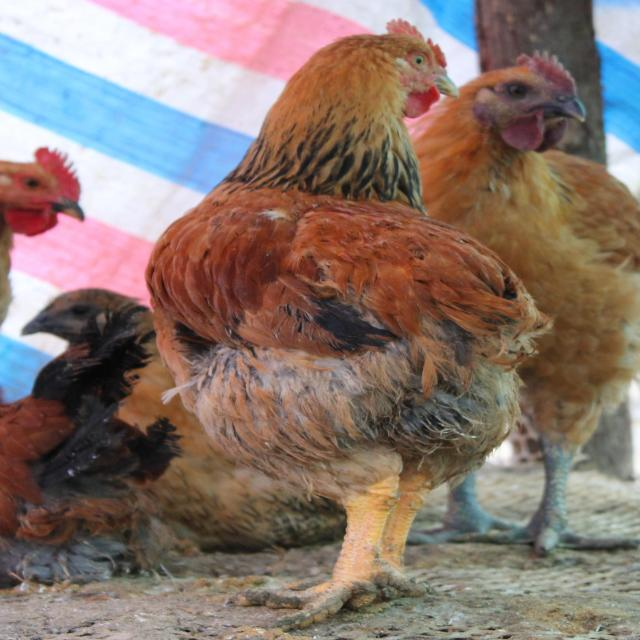cook: (86, 6, 616, 640), (304, 193, 308, 198)
